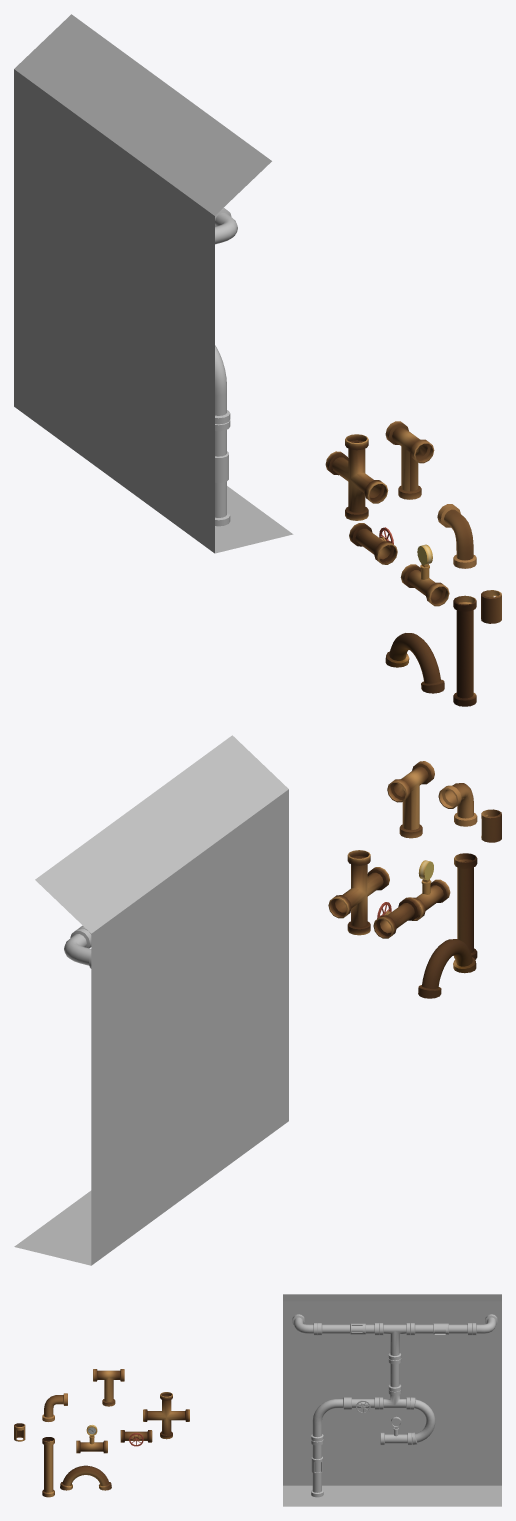
File: Pipe_Selection.fbx
3 views of the same model, one above another, from view 1: azimuth 30°, elevation 25°; view 2: azimuth 150°, elevation 25°; view 3: azimuth 270°, elevation 25° (orthographic). The views are drawn at different scales.
Visible parts, largest first — view 1: pPlane1, pCylinder24, polySurface1, pCylinder14, polySurface21, pCylinder13, pCylinder4, polySurface10, polySurface11, polySurface5; view 2: pPlane1, pCylinder24, pCylinder14, polySurface21, polySurface1, polySurface10, pCylinder4, pCylinder13, pCylinder22, polySurface2; view 3: pPlane1, pCylinder24, polySurface21, polySurface1, pCylinder14, pCylinder20, polySurface5, polySurface15, polySurface16, polySurface17, polySurface11, pCylinder13 (+8 smaller).
Boxes of the visible parts, bbox=[...] form: pPlane1: bbox=[14, 14, 293, 553]; pCylinder24: bbox=[325, 434, 388, 520]; polySurface1: bbox=[453, 595, 476, 706]; pCylinder14: bbox=[385, 421, 434, 499]; polySurface21: bbox=[385, 633, 444, 693]; pCylinder13: bbox=[400, 544, 449, 606]; pCylinder4: bbox=[437, 504, 476, 568]; polySurface10: bbox=[349, 523, 397, 564]; polySurface11: bbox=[215, 420, 230, 526]; polySurface5: bbox=[215, 345, 230, 424]; pPlane1: bbox=[14, 735, 288, 1265]; pCylinder24: bbox=[328, 850, 389, 935]; pCylinder14: bbox=[387, 761, 434, 838]; polySurface21: bbox=[418, 939, 476, 998]; polySurface1: bbox=[454, 853, 477, 959]; polySurface10: bbox=[373, 897, 421, 938]; pCylinder4: bbox=[438, 783, 477, 826]; pCylinder13: bbox=[412, 860, 450, 920]; pCylinder22: bbox=[64, 928, 91, 968]; polySurface2: bbox=[481, 809, 501, 842]; pPlane1: bbox=[283, 1294, 501, 1506]; pCylinder24: bbox=[143, 1392, 189, 1439]; polySurface21: bbox=[60, 1465, 111, 1490]; polySurface1: bbox=[42, 1437, 54, 1497]; pCylinder14: bbox=[93, 1369, 124, 1406]; pCylinder20: bbox=[379, 1323, 410, 1360]; polySurface5: bbox=[311, 1397, 347, 1441]; polySurface15: bbox=[410, 1397, 435, 1445]; polySurface16: bbox=[318, 1323, 378, 1335]; polySurface17: bbox=[410, 1323, 471, 1335]; polySurface11: bbox=[311, 1439, 323, 1497]; pCylinder13: bbox=[76, 1425, 107, 1453].
Size of the model in its own units: 19.47 by 89.42 by 192.
9 materials, 8 textured.
